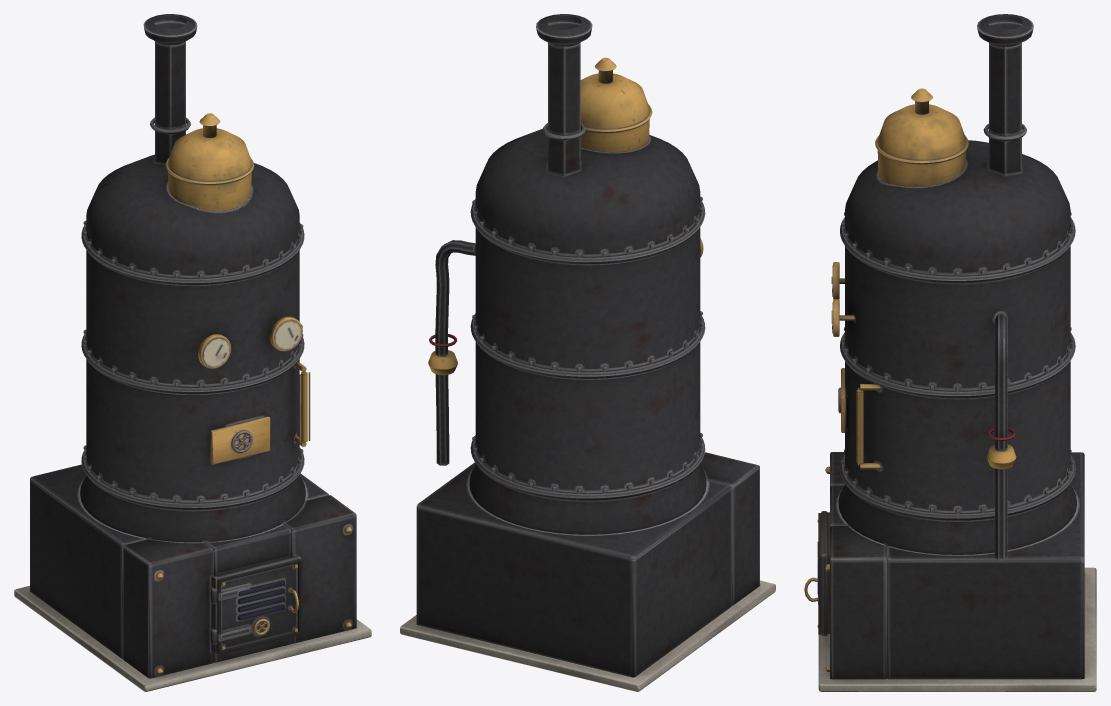
The model's file is Boiler.fbx.
3 views of the same model, side by side, from view 1: azimuth 30°, elevation 25°; view 2: azimuth 150°, elevation 25°; view 3: azimuth 270°, elevation 25° (orthographic). The views are drawn at different scales.
Visible parts, largest first — view 1: Boiler_Main, Boiler_Door0; view 2: Boiler_Main; view 3: Boiler_Main, Boiler_Door0.
Boxes of the visible parts, left/top/right/bottom form: Boiler_Main: left=14, top=14, right=371, bottom=691; Boiler_Door0: left=213, top=556, right=301, bottom=654; Boiler_Main: left=400, top=14, right=775, bottom=691; Boiler_Main: left=818, top=14, right=1096, bottom=691; Boiler_Door0: left=804, top=511, right=827, bottom=636.
Bounding box in the file's own units: 374 × 850 × 368.
